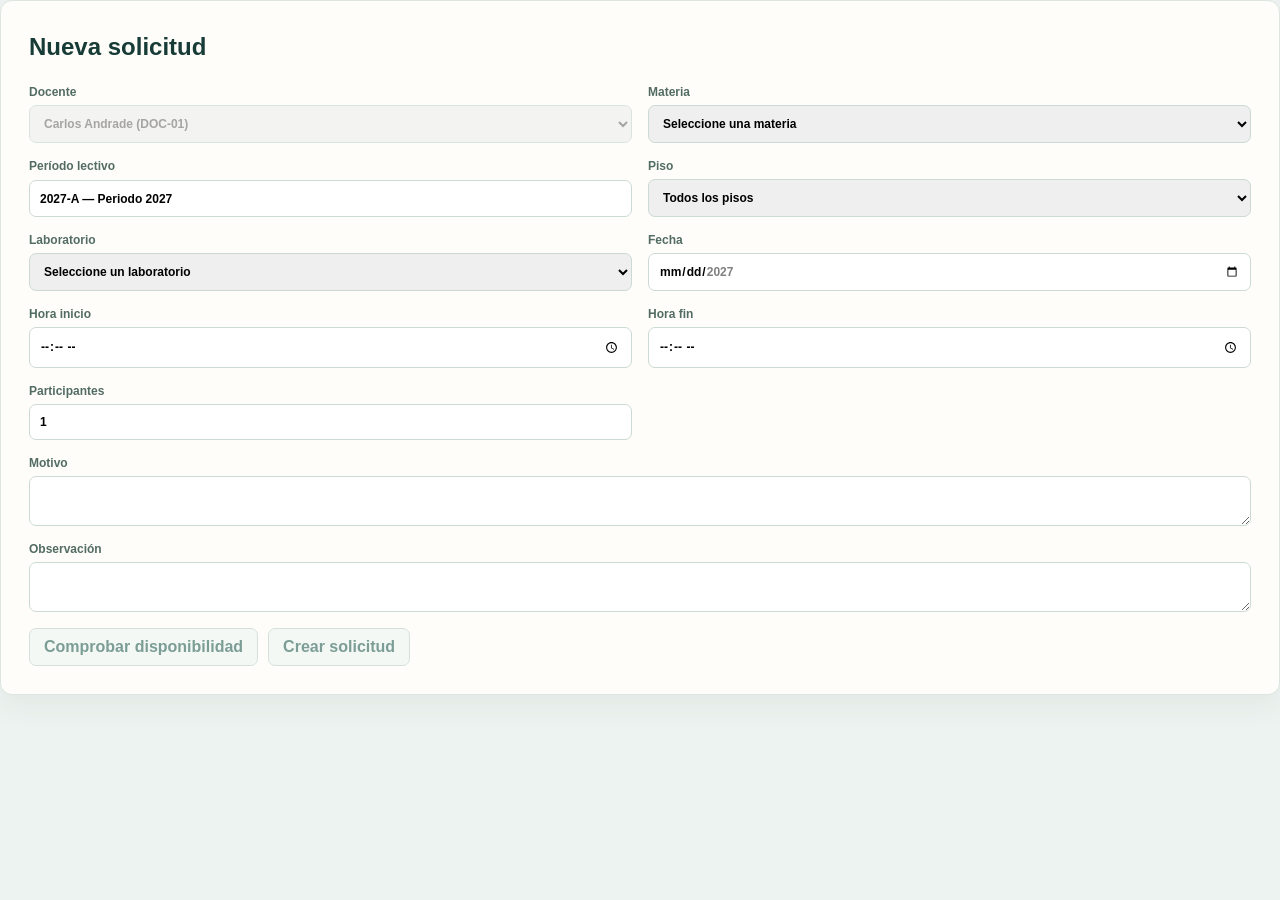
NuevaSolicitudPage › rechaza submit si fechaReserva es anterior a fechaMinima
This screenshot has width=1280, height=900.
Select "MAT-1 — Redes I" in the dropdown labelled "Materia" at (950, 124), box [648,105,1251,143]
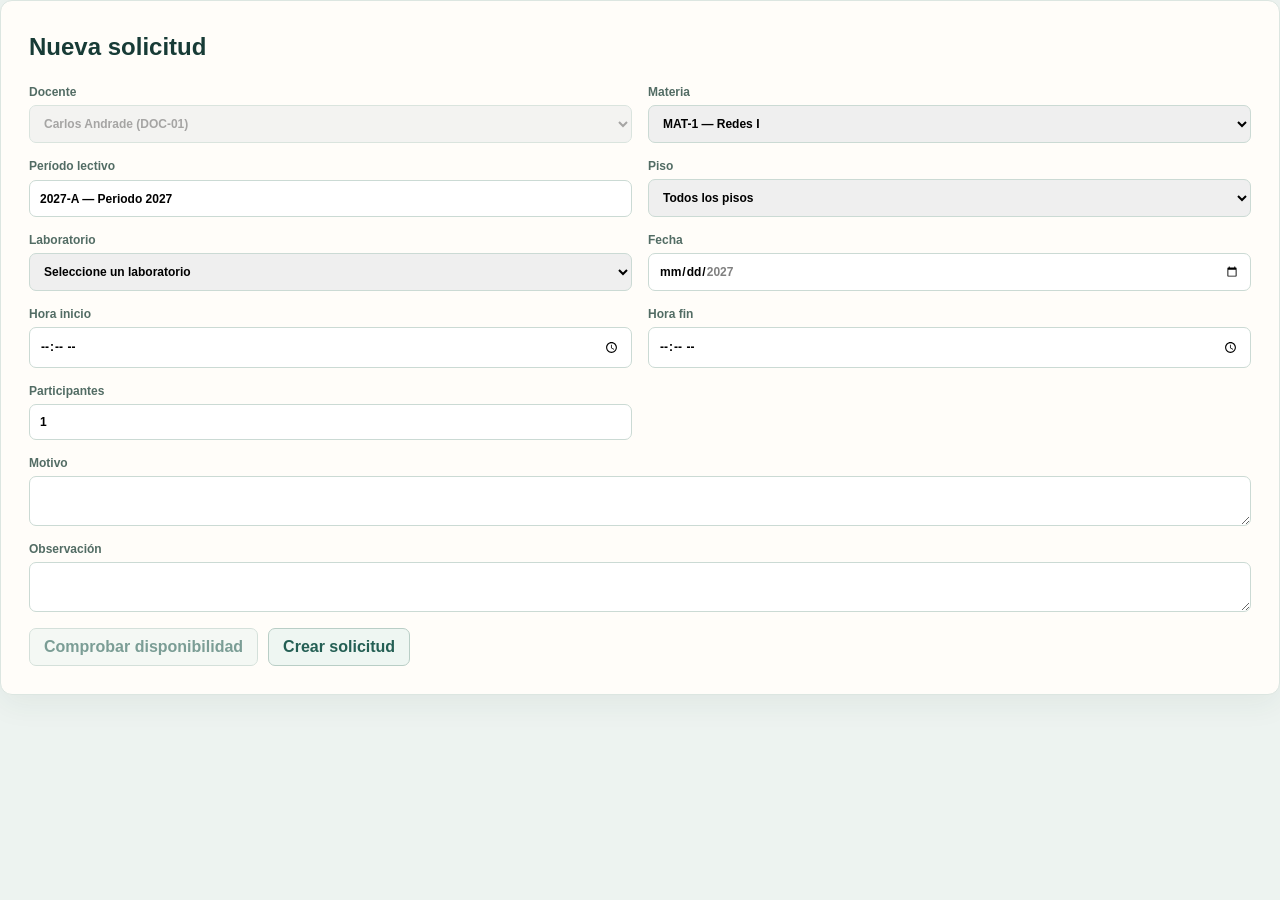
Select "LAB-1 — Redes — Piso 2" in the dropdown labelled "Laboratorio" at (330, 272), box [29,253,632,291]
Type "2099-08-20" into the date field labelled "Fecha".
click(950, 272); type("2099-08-20")  # box [648,253,1251,291]
Type "08:00" into the time field labelled "Hora inicio".
click(330, 347); type("08:00")  # box [29,327,632,368]
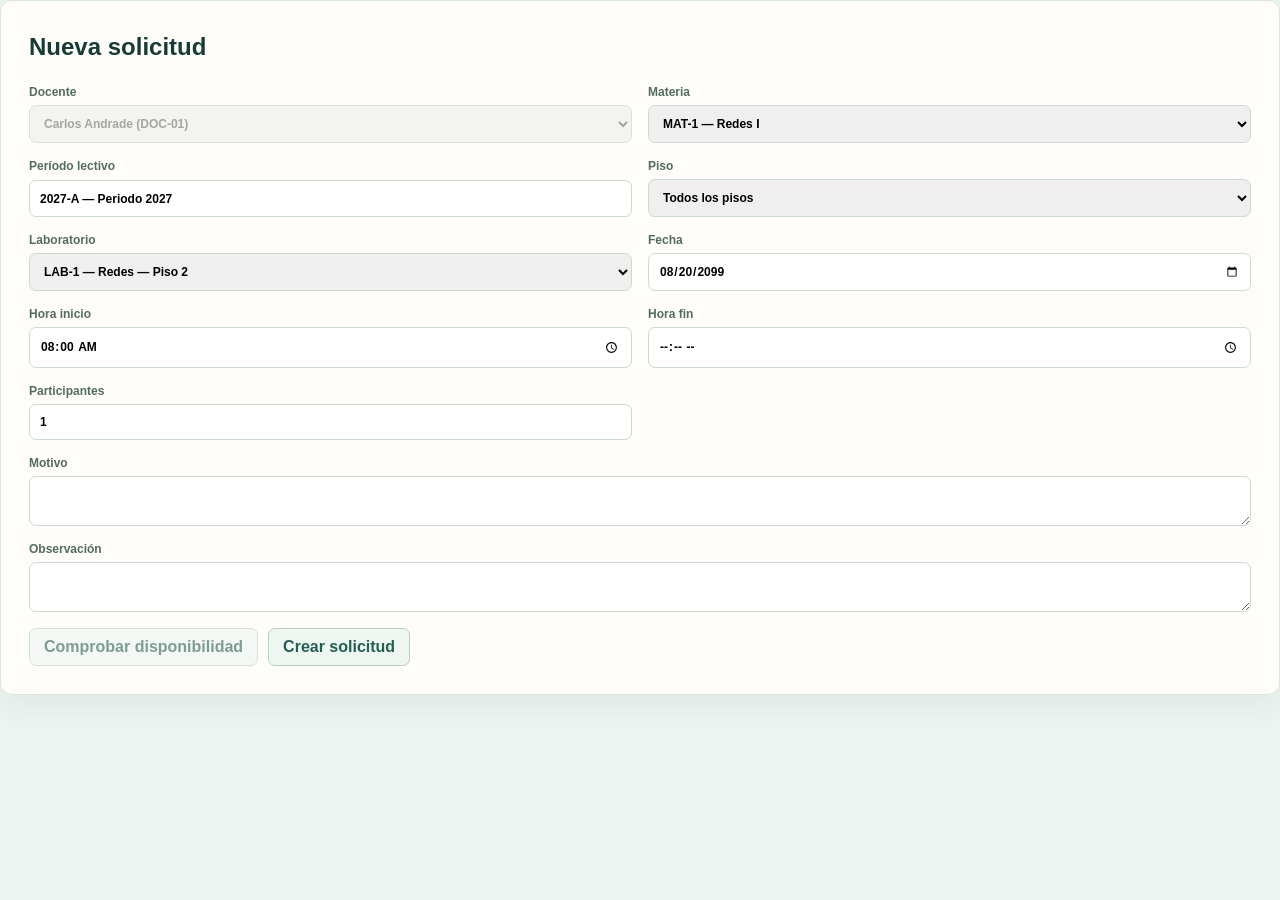
Type "10:00" into the time field labelled "Hora fin".
click(950, 347); type("10:00")  # box [648,327,1251,368]
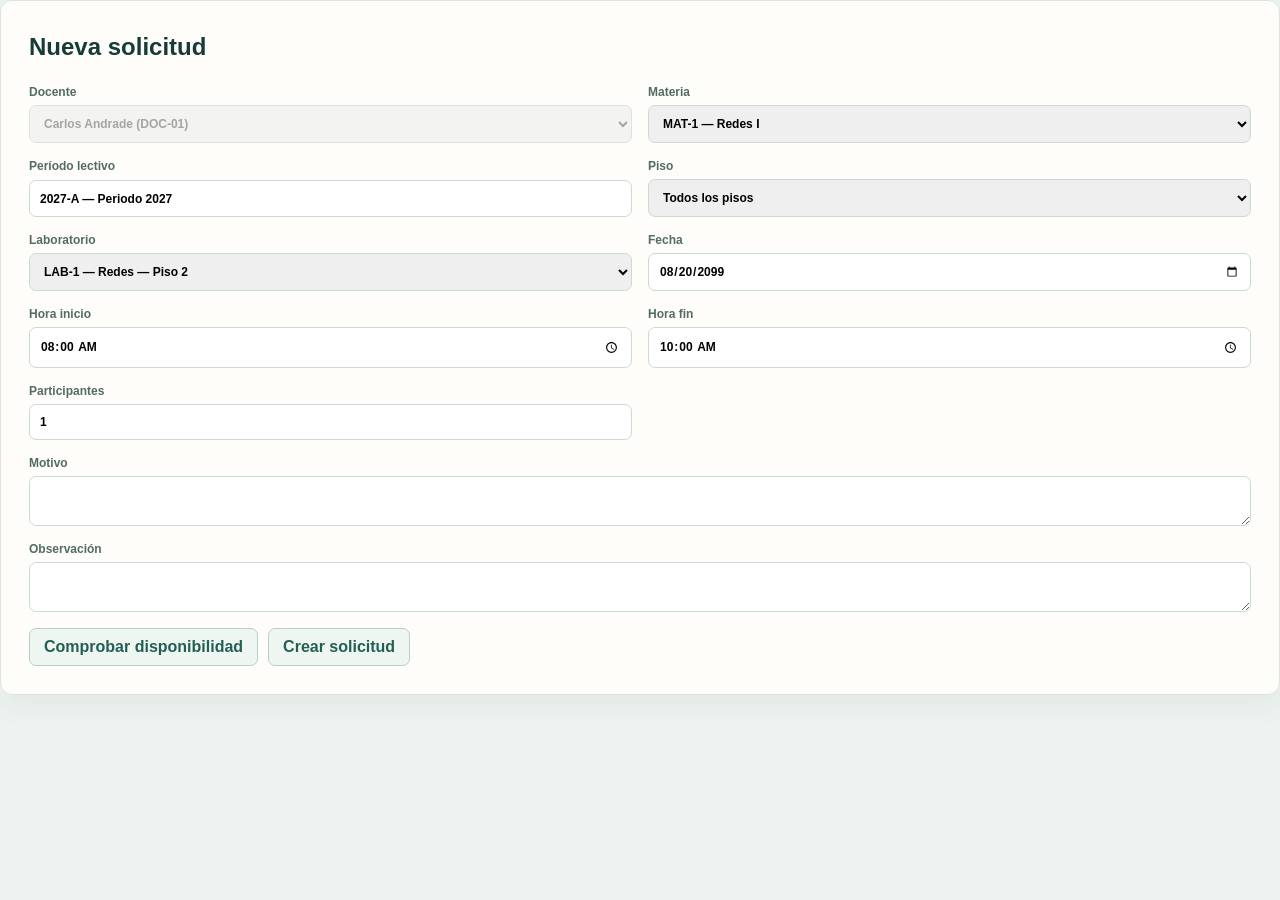
Type "Clase práctica" into the text box labelled "Motivo".
click(640, 501); type("Clase práctica")  # box [29,476,1251,526]
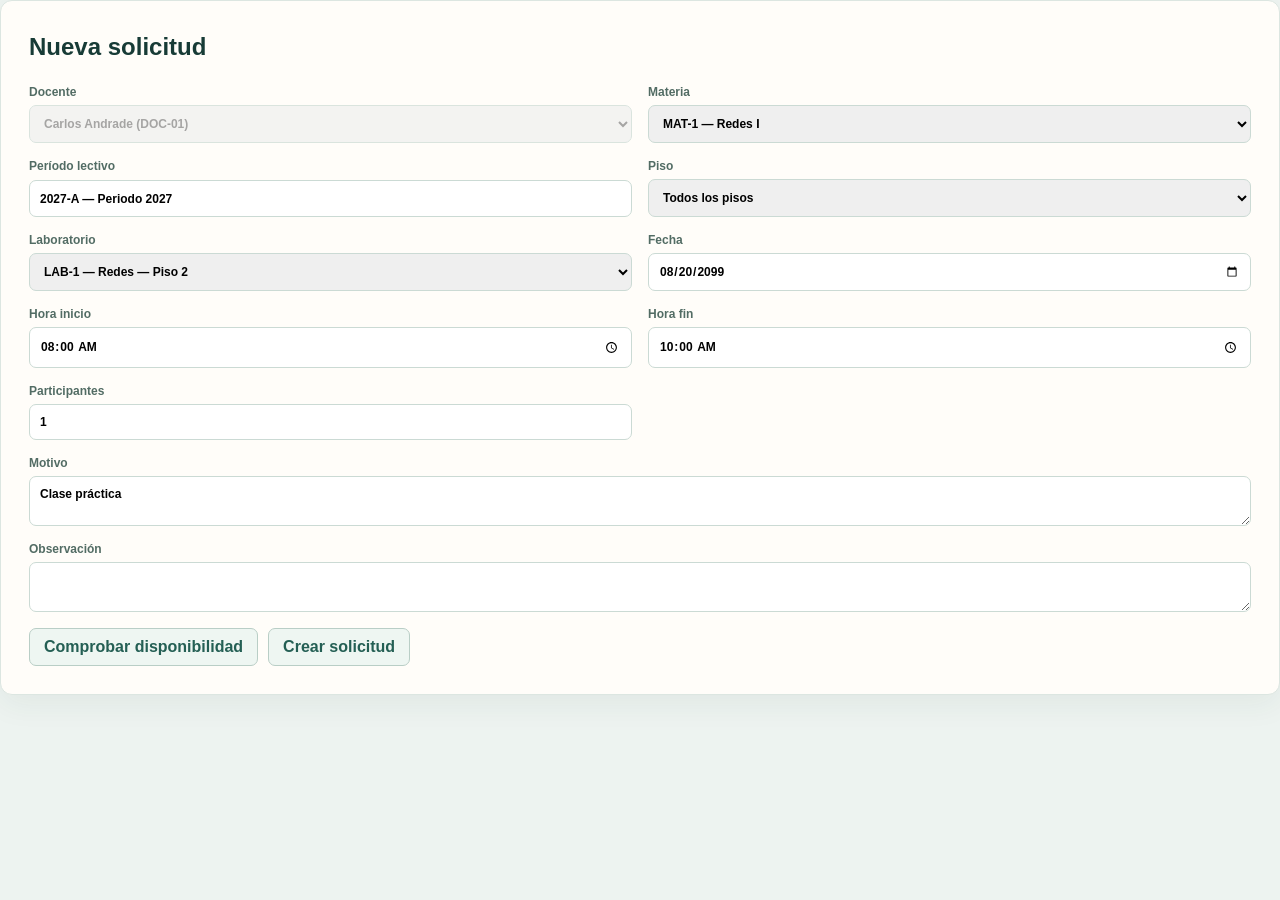
Type "2027-01-15" into the date field labelled "Fecha".
click(950, 272); type("2027-01-15")  # box [648,253,1251,291]
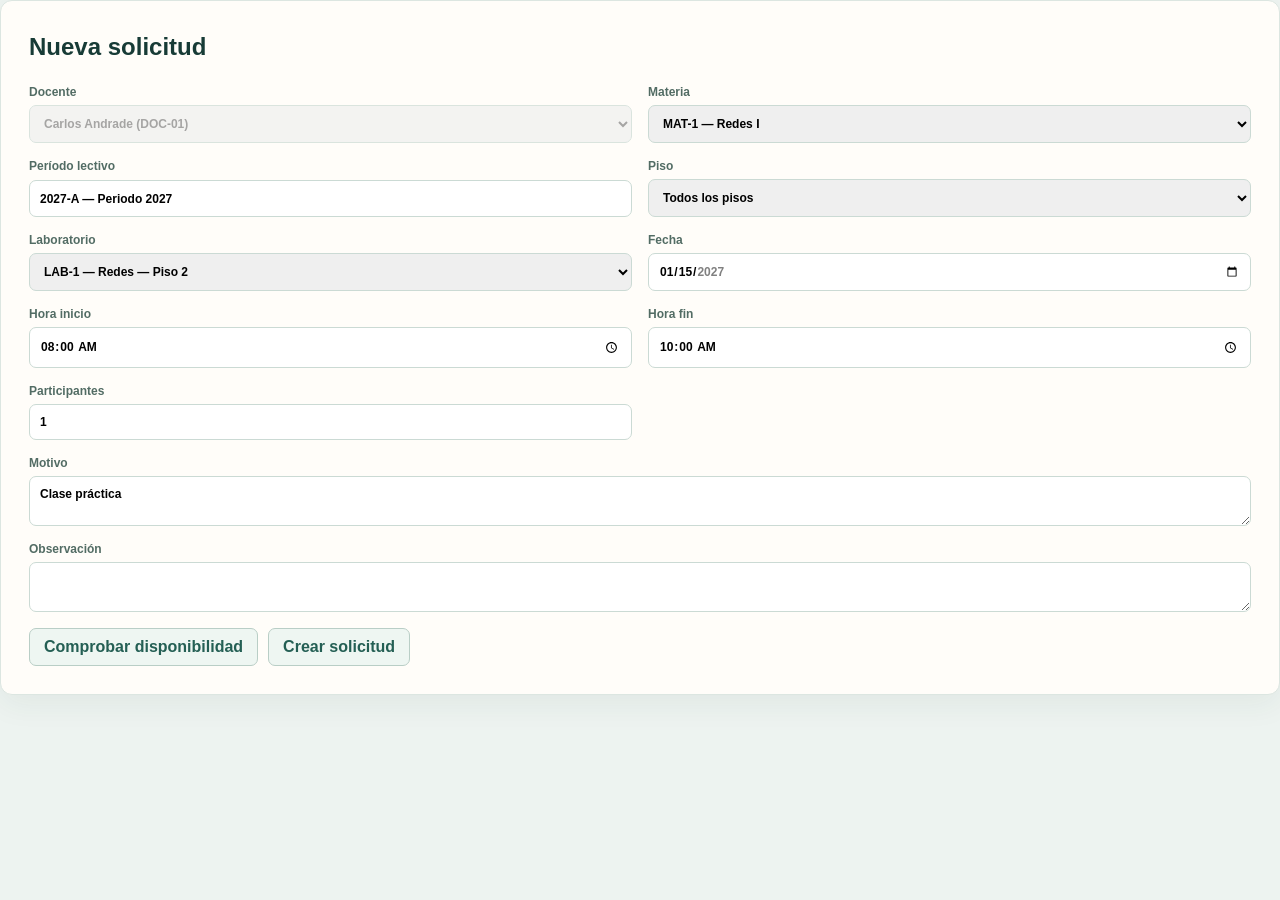
Submit the form named "Crear solicitud"
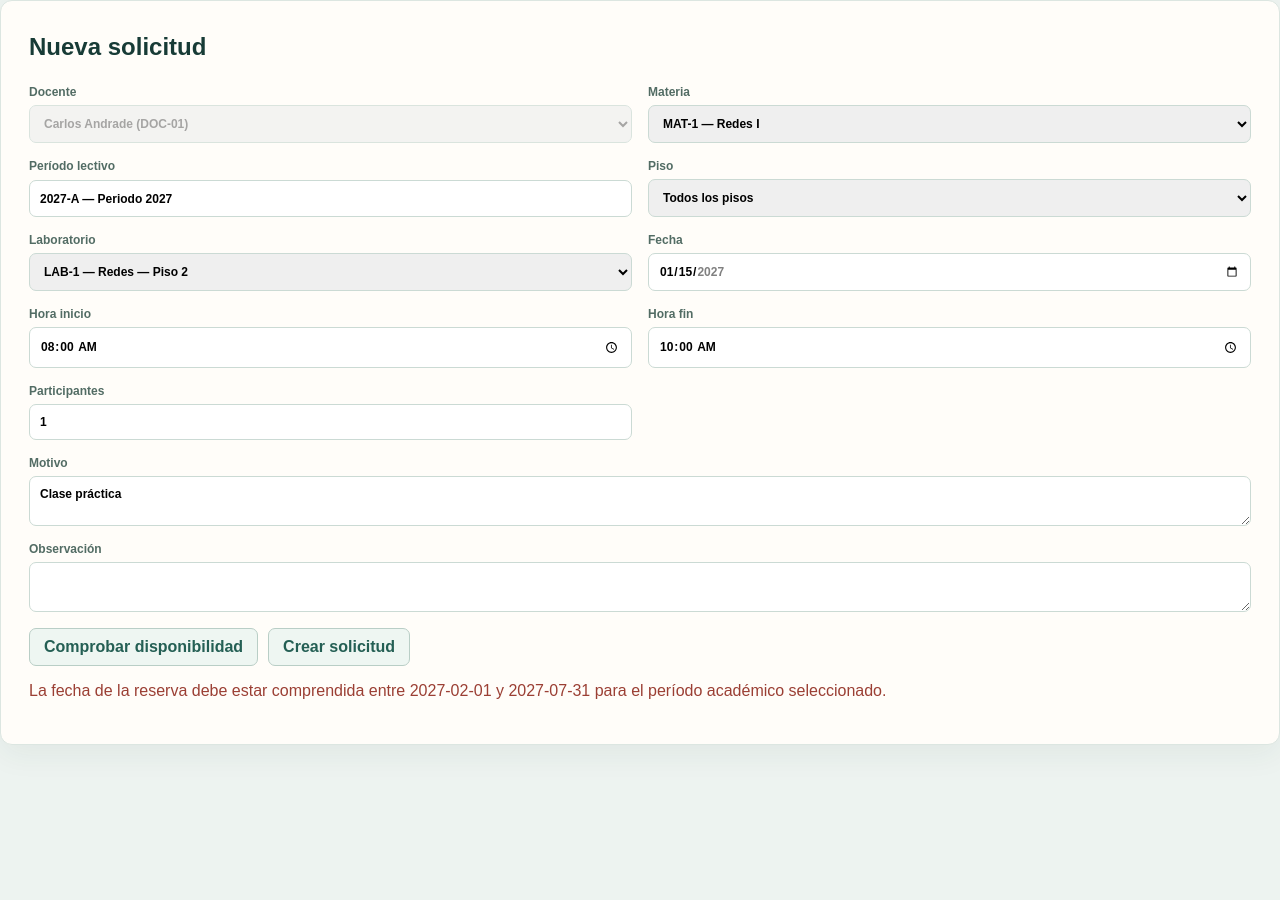
Expected: the message shows "La fecha de la reserva debe estar comprendida entre 2027-02-01 y 2027-07-31 para el período académico seleccionado.", [29,682,886,699]
